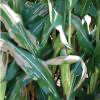Corn leaf blight: (1, 34, 56, 99), (1, 2, 41, 56), (46, 54, 87, 98), (71, 12, 93, 54), (7, 74, 28, 99), (24, 2, 46, 25)
